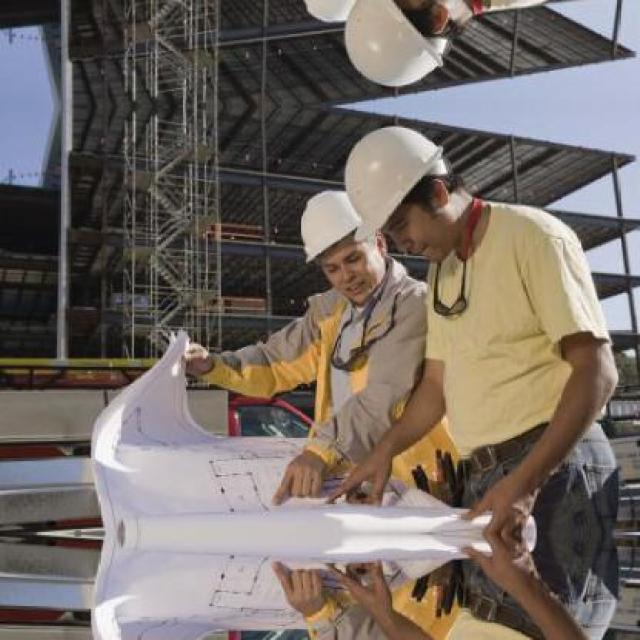helmet: (332, 114, 474, 273), (332, 0, 476, 99), (288, 181, 380, 302), (287, 0, 381, 32)
